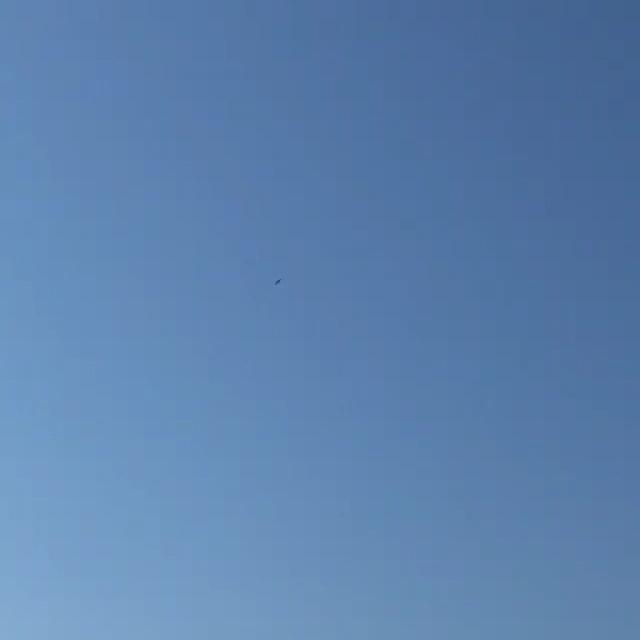bird: (273, 274, 283, 288)
